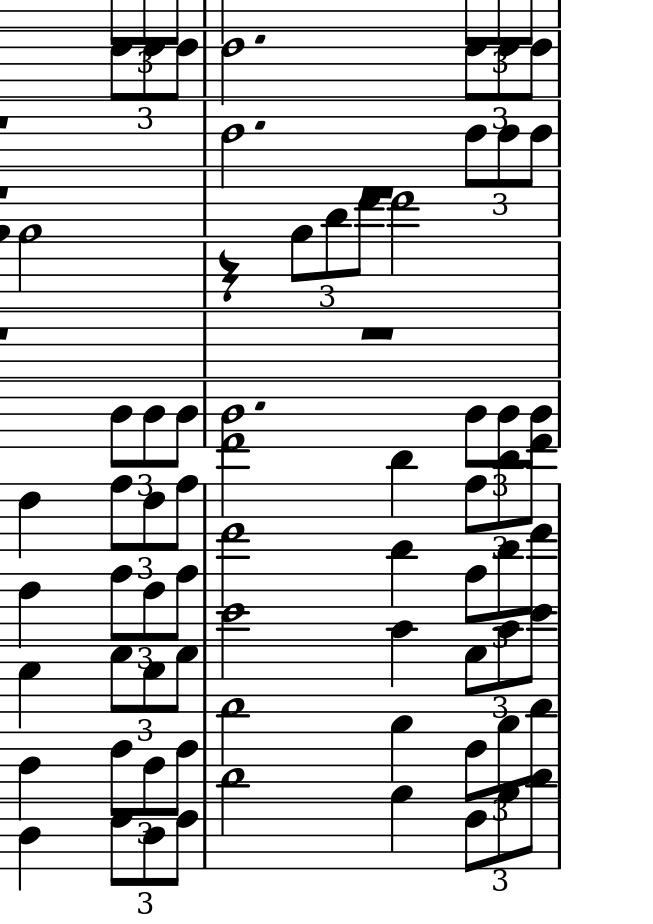4_6: (17, 481, 40, 560)
Rests1: (357, 321, 403, 345)
Rests4: (218, 248, 242, 303)
Single_barline: (551, 378, 569, 448), (197, 799, 215, 868), (552, 238, 568, 310), (198, 643, 214, 714), (199, 378, 215, 448), (199, 729, 215, 799), (197, 98, 213, 167), (197, 309, 213, 378), (198, 240, 213, 311), (198, 167, 213, 238), (552, 309, 566, 380), (552, 99, 566, 167), (553, 167, 566, 238), (199, 481, 212, 552), (199, 571, 212, 641), (552, 800, 565, 869)
